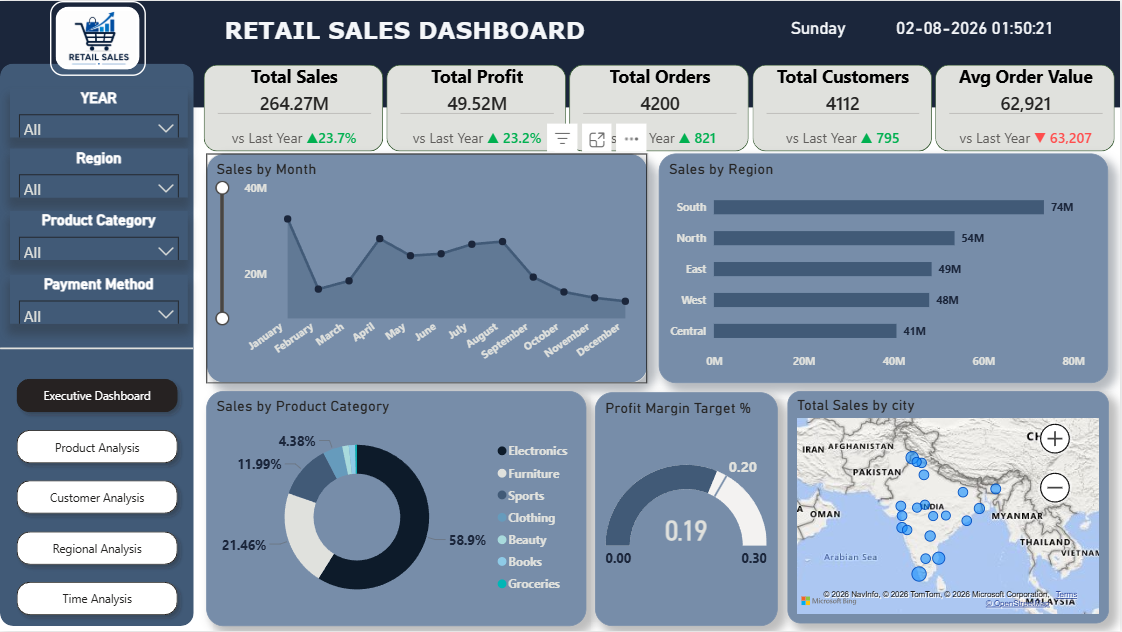

The dashboard page shown, as its layout file describes it:
{"tool":"powerbi","page":{"name":"Executive Dashboard","canvas":[1280,720],"ordinal":0},"visuals":[{"type":"shape","box":[0,0,1280,121.7],"z":0},{"type":"textbox","box":[251.2,11.2,443.8,50],"z":1000},{"type":"card","fields":{"Values":["Measure.Today"]},"box":[948.6,0,331.4,61.4],"z":2000},{"type":"card","fields":{"Values":["Measure.DayName"]},"box":[818.3,0,233.3,61.7],"z":3000},{"type":"cardVisual","fields":{"Data":["Measure.TotalSales","Measure.TotalProfit","Measure.TotalOrders","Measure.TotalCustomers","Measure.Avg Order Value"]},"box":[225,65,1055,113.3],"z":4000},{"type":"shape","box":[0,71.4,221.4,638.6],"z":5000},{"type":"slicer","title":"YEAR","fields":{"Values":["DimDates.Year"]},"box":[11,100.6,202.9,56],"z":6000,"group":"g1"},{"type":"lineChart","title":"Sales by Month","fields":{"Y":["Measure.Total Sales"],"Category":["DimDates.Month Name"]},"box":[235,175,505,262.5],"z":6000},{"type":"slicer","title":"Region","fields":{"Values":["DimStore.region"]},"box":[11,169.5,202.9,56],"z":7000,"group":"g1"},{"type":"clusteredBarChart","title":"Sales by Region","fields":{"Category":["DimStore.region"],"Y":["Measure.Total Sales"]},"box":[752.5,175,513.8,262.5],"z":7000},{"type":"slicer","title":"Product Category","fields":{"Values":["DimProducts.product_category"]},"box":[11,239.9,202.9,56],"z":8000,"group":"g1"},{"type":"donutChart","title":"Sales by Product Category","fields":{"Y":["Measure.Total Sales"],"Category":["DimProducts.product_category"]},"box":[235.3,445.2,434.3,269],"z":8000},{"type":"slicer","title":"Payment Method","fields":{"Values":["Factsales.payment_method"]},"box":[11,313.2,202.9,56],"z":9000,"group":"g1"},{"type":"gauge","title":"Profit Margin Target %","fields":{"Y":["Measure.Profitmargin%"],"TargetValue":["Measure.ProfitMarginTarget"]},"box":[679.8,446.6,208.6,265],"z":9000},{"type":"pageNavigator","box":[10,422.9,202.9,288.6],"z":10000},{"type":"group","id":"g1","title":"Group 1","box":[11,100.6,202.5,268.7],"z":11000},{"type":"map","fields":{"Category":["DimStore.city"],"Size":["Measure.Total Sales"]},"box":[899.4,445.4,374.2,265],"z":12000},{"type":"shape","box":[0,369.3,220.9,54],"z":13000},{"type":"shape","box":[58.3,0,109.9,85.9],"z":15000,"group":"g2"},{"type":"image","box":[57.7,11.5,109.9,61.8],"z":15500,"group":"g2"},{"type":"group","id":"g2","title":"Group 2","box":[57.7,0,110.4,85.9],"z":15501}]}

Visuals, with their boxes in screenshot pixels (x1, y1, x2, y2), scaled from the page's 1280x720 canvas onto the 1122x632 screenshot:
shape: (0,0,1121,107)
textbox: (220,10,609,54)
card - Measure.Today: (832,0,1121,54)
card - Measure.DayName: (717,0,922,54)
cardVisual - Measure.TotalSales x Measure.TotalProfit: (197,57,1121,157)
shape: (0,63,194,623)
"YEAR" slicer: (10,88,187,137)
"Sales by Month" lineChart: (206,154,649,384)
"Region" slicer: (10,149,187,198)
"Sales by Region" clusteredBarChart: (660,154,1110,384)
"Product Category" slicer: (10,211,187,260)
"Sales by Product Category" donutChart: (206,391,587,627)
"Payment Method" slicer: (10,275,187,324)
"Profit Margin Target %" gauge: (596,392,779,625)
pageNavigator: (9,371,187,625)
"Group 1" group: (10,88,187,324)
map - DimStore.city x Measure.Total Sales: (788,391,1116,624)
shape: (0,324,194,372)
shape: (51,0,147,75)
image: (51,10,147,64)
"Group 2" group: (51,0,147,75)
